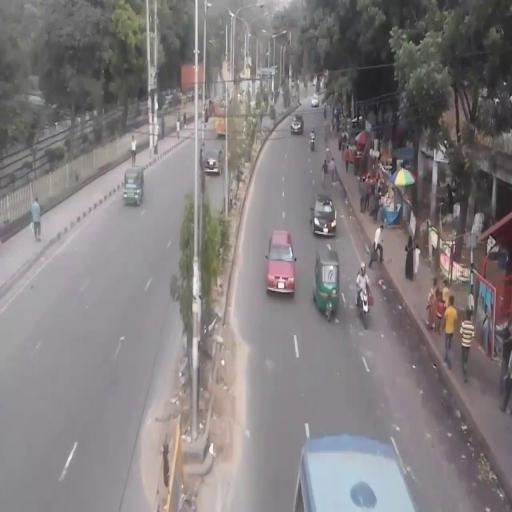car: (266, 230, 298, 301), (310, 192, 339, 241)
motorbike: (355, 283, 372, 330)
three wheelers (CNG): (313, 247, 342, 325), (124, 165, 145, 210)
